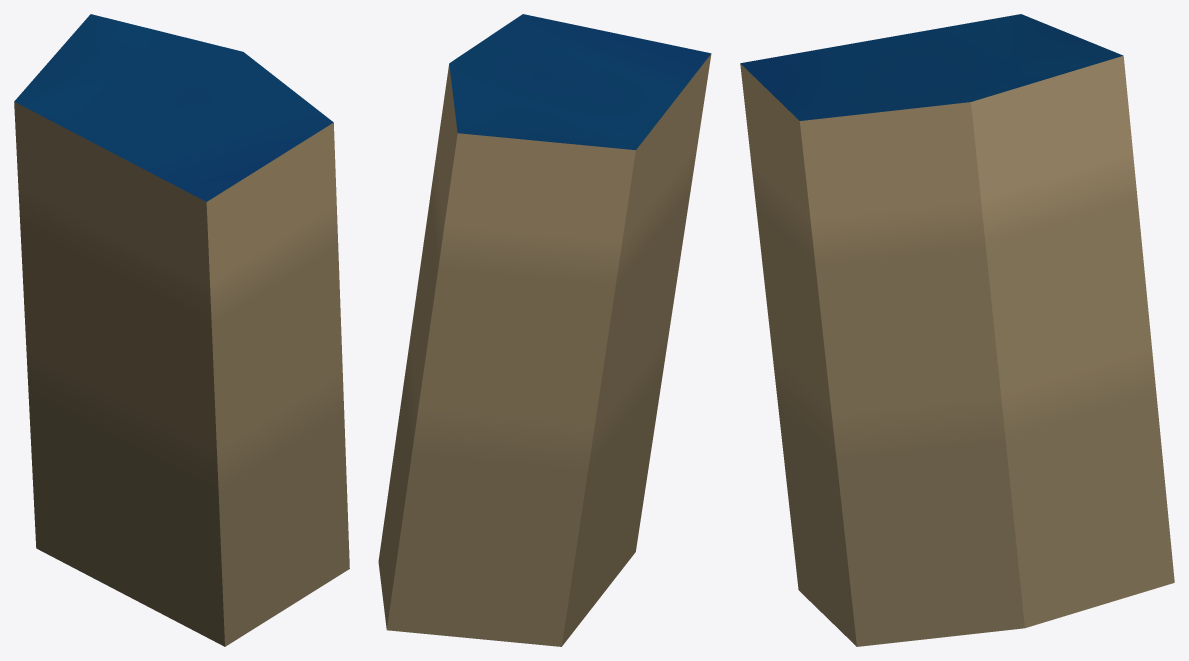
File: 0603_Tuvalu.glb
3 views of the same model, side by side, from view 1: azimuth 30°, elevation 25°; view 2: azimuth 150°, elevation 25°; view 3: azimuth 270°, elevation 25° (orthographic). The views are drawn at different scales.
Parts seen in each view (by area): view 1: part_0; view 2: part_0; view 3: part_0.
Part boxes in pixels (<box>): part_0: <box>14,14,349,646</box>; part_0: <box>378,14,711,646</box>; part_0: <box>740,14,1174,646</box>.
Bounding box in the file's own units: 0.1122 × 0.2142 × 0.1549.
Materials: 1 (1 with a texture image).
